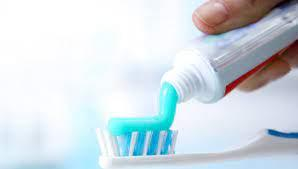toothpaste: (154, 1, 298, 100)
